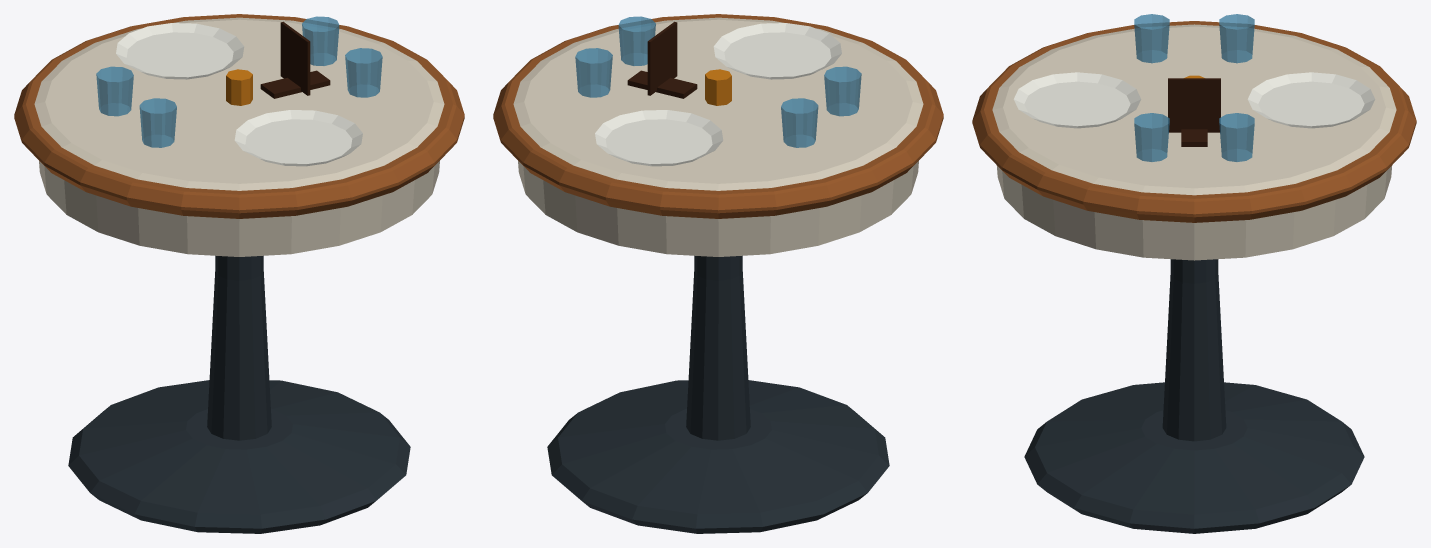
File: INTERIOR_11_RestaurantTable.obj
3 renders of one model, left to right at view 1: azimuth 30°, elevation 25°; view 2: azimuth 150°, elevation 25°; view 3: azimuth 270°, elevation 25°, orthographic.
Parts seen in each view (by area): view 1: INTERIOR_11_RestaurantTable_Tablecloth, INTERIOR_11_RestaurantTable_Base, INTERIOR_11_RestaurantTable_Top, INTERIOR_11_RestaurantTable_Plates, INTERIOR_11_RestaurantTable_Pedestal, INTERIOR_11_RestaurantTable_Glasses, INTERIOR_11_RestaurantTable_Menu_Stand, INTERIOR_11_RestaurantTable_Candle; view 2: INTERIOR_11_RestaurantTable_Tablecloth, INTERIOR_11_RestaurantTable_Base, INTERIOR_11_RestaurantTable_Top, INTERIOR_11_RestaurantTable_Plates, INTERIOR_11_RestaurantTable_Pedestal, INTERIOR_11_RestaurantTable_Glasses, INTERIOR_11_RestaurantTable_Menu_Stand, INTERIOR_11_RestaurantTable_Candle; view 3: INTERIOR_11_RestaurantTable_Tablecloth, INTERIOR_11_RestaurantTable_Base, INTERIOR_11_RestaurantTable_Top, INTERIOR_11_RestaurantTable_Plates, INTERIOR_11_RestaurantTable_Pedestal, INTERIOR_11_RestaurantTable_Glasses, INTERIOR_11_RestaurantTable_Menu_Stand.
Boxes of the visible parts, box(x1,y1,x2,y2) form: INTERIOR_11_RestaurantTable_Tablecloth: box(34, 17, 444, 256); INTERIOR_11_RestaurantTable_Base: box(68, 380, 410, 533); INTERIOR_11_RestaurantTable_Top: box(14, 14, 464, 218); INTERIOR_11_RestaurantTable_Plates: box(116, 23, 362, 166); INTERIOR_11_RestaurantTable_Pedestal: box(207, 255, 271, 440); INTERIOR_11_RestaurantTable_Glasses: box(96, 16, 382, 147); INTERIOR_11_RestaurantTable_Menu_Stand: box(260, 21, 330, 98); INTERIOR_11_RestaurantTable_Candle: box(226, 69, 252, 105); INTERIOR_11_RestaurantTable_Tablecloth: box(513, 17, 923, 256); INTERIOR_11_RestaurantTable_Base: box(547, 380, 889, 533); INTERIOR_11_RestaurantTable_Top: box(493, 14, 943, 218); INTERIOR_11_RestaurantTable_Plates: box(595, 23, 841, 166); INTERIOR_11_RestaurantTable_Pedestal: box(686, 255, 750, 440); INTERIOR_11_RestaurantTable_Glasses: box(575, 16, 861, 147); INTERIOR_11_RestaurantTable_Menu_Stand: box(627, 21, 697, 98); INTERIOR_11_RestaurantTable_Candle: box(705, 69, 731, 105); INTERIOR_11_RestaurantTable_Tablecloth: box(992, 24, 1396, 260); INTERIOR_11_RestaurantTable_Base: box(1024, 382, 1364, 533); INTERIOR_11_RestaurantTable_Top: box(972, 21, 1416, 222); INTERIOR_11_RestaurantTable_Plates: box(1013, 72, 1375, 128); INTERIOR_11_RestaurantTable_Pedestal: box(1162, 259, 1226, 441); INTERIOR_11_RestaurantTable_Glasses: box(1134, 14, 1254, 161); INTERIOR_11_RestaurantTable_Menu_Stand: box(1168, 78, 1220, 146).
Size of the model in its own units: 0.835 by 0.86 by 0.835.
